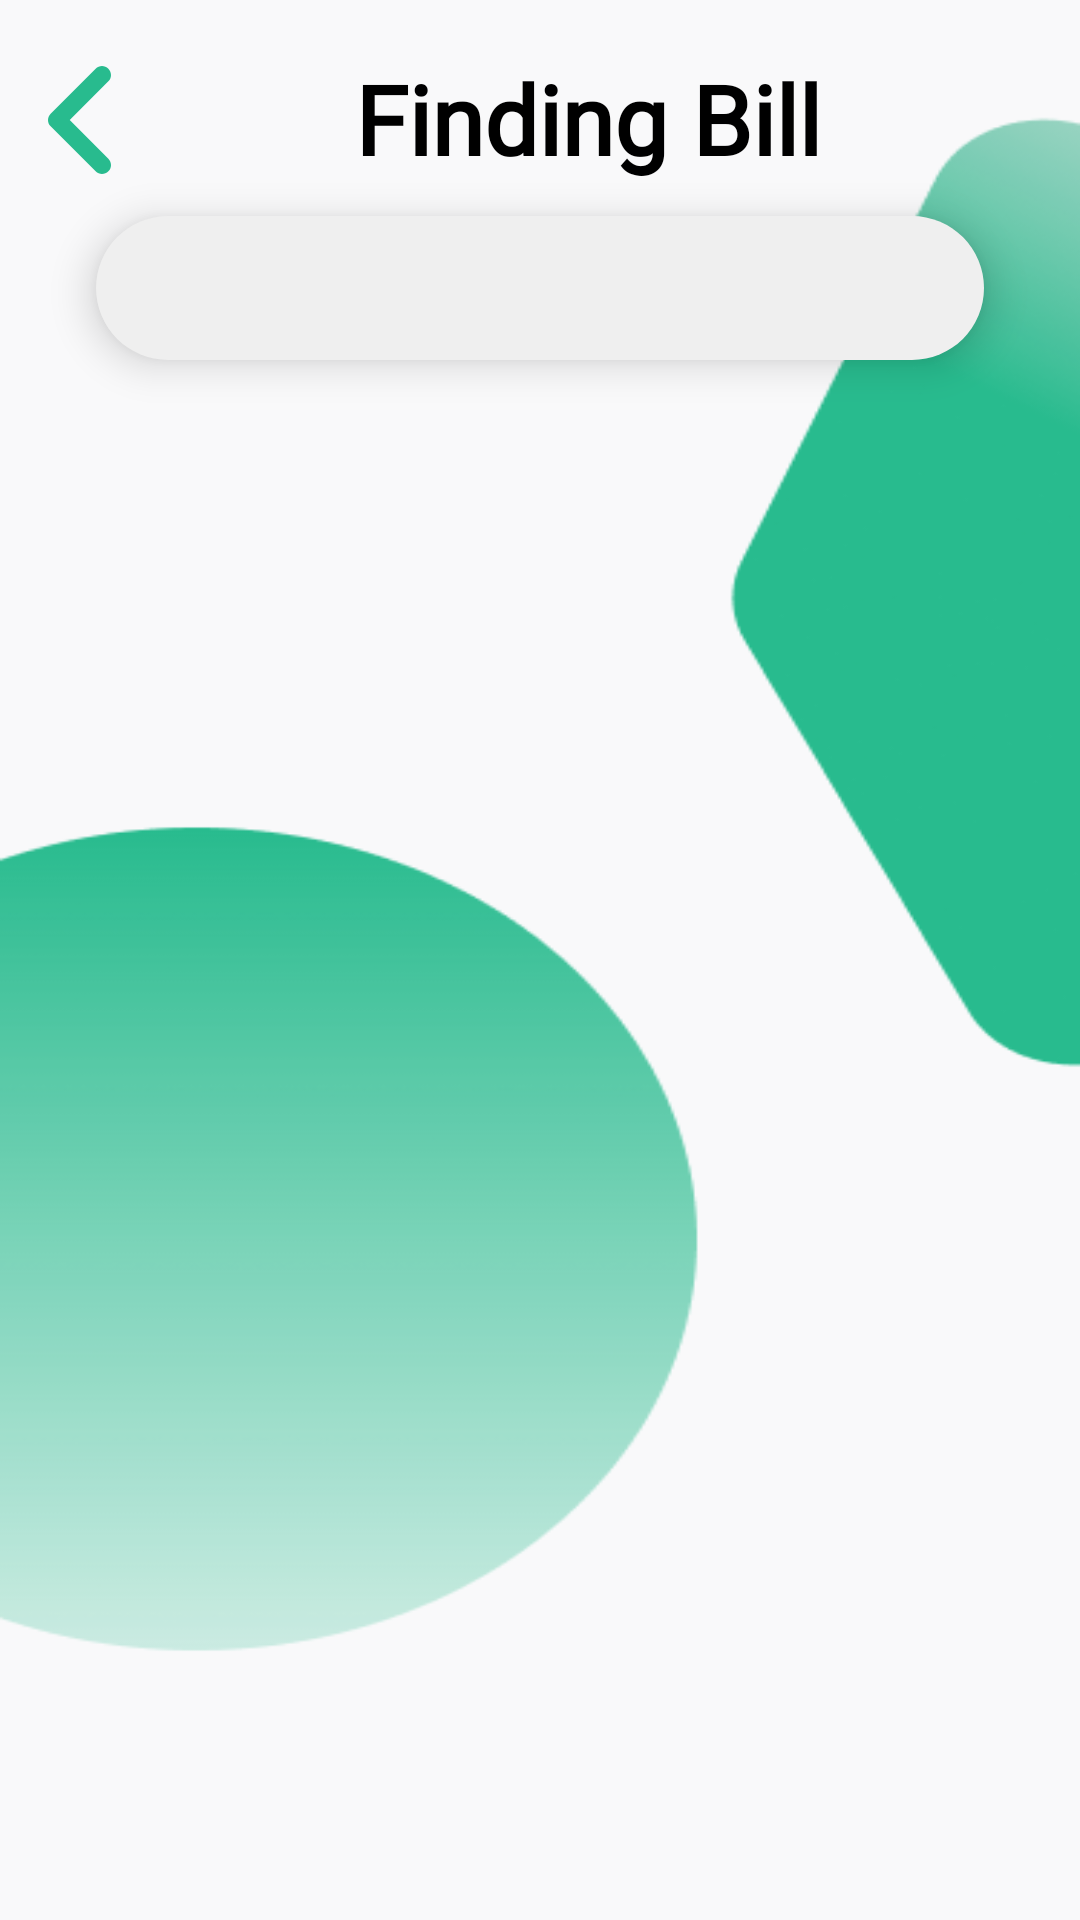

Screen size 1080 x 1920. Icon name, then its center in pixels as (x=x, y=y):
left: (x=79, y=120)
